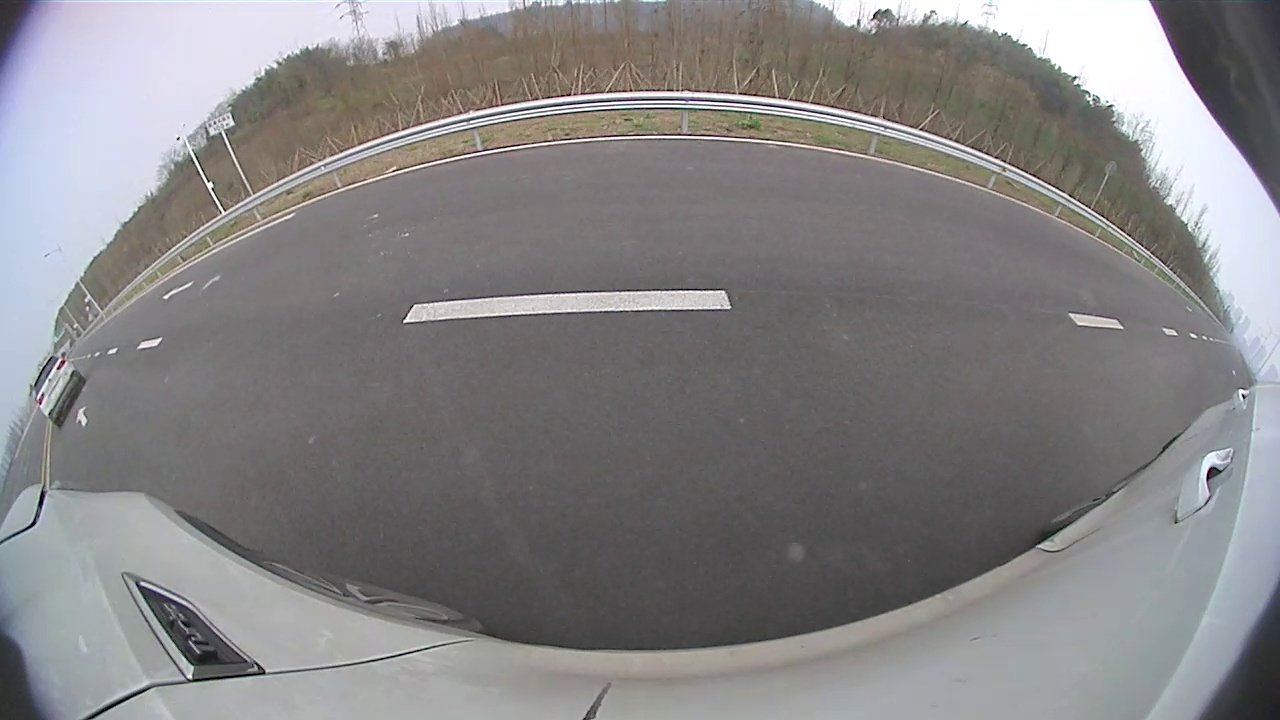car: (627, 132, 718, 205)
